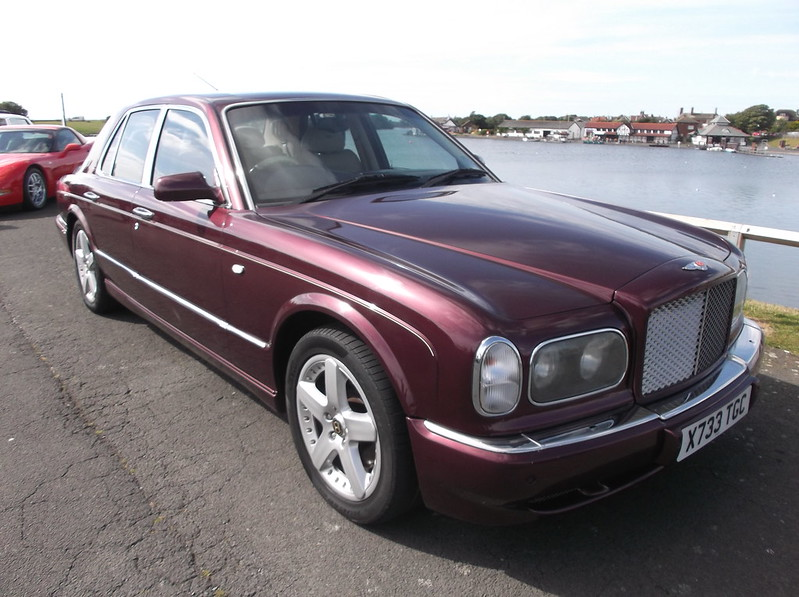number_plate: (663, 384, 763, 464)
